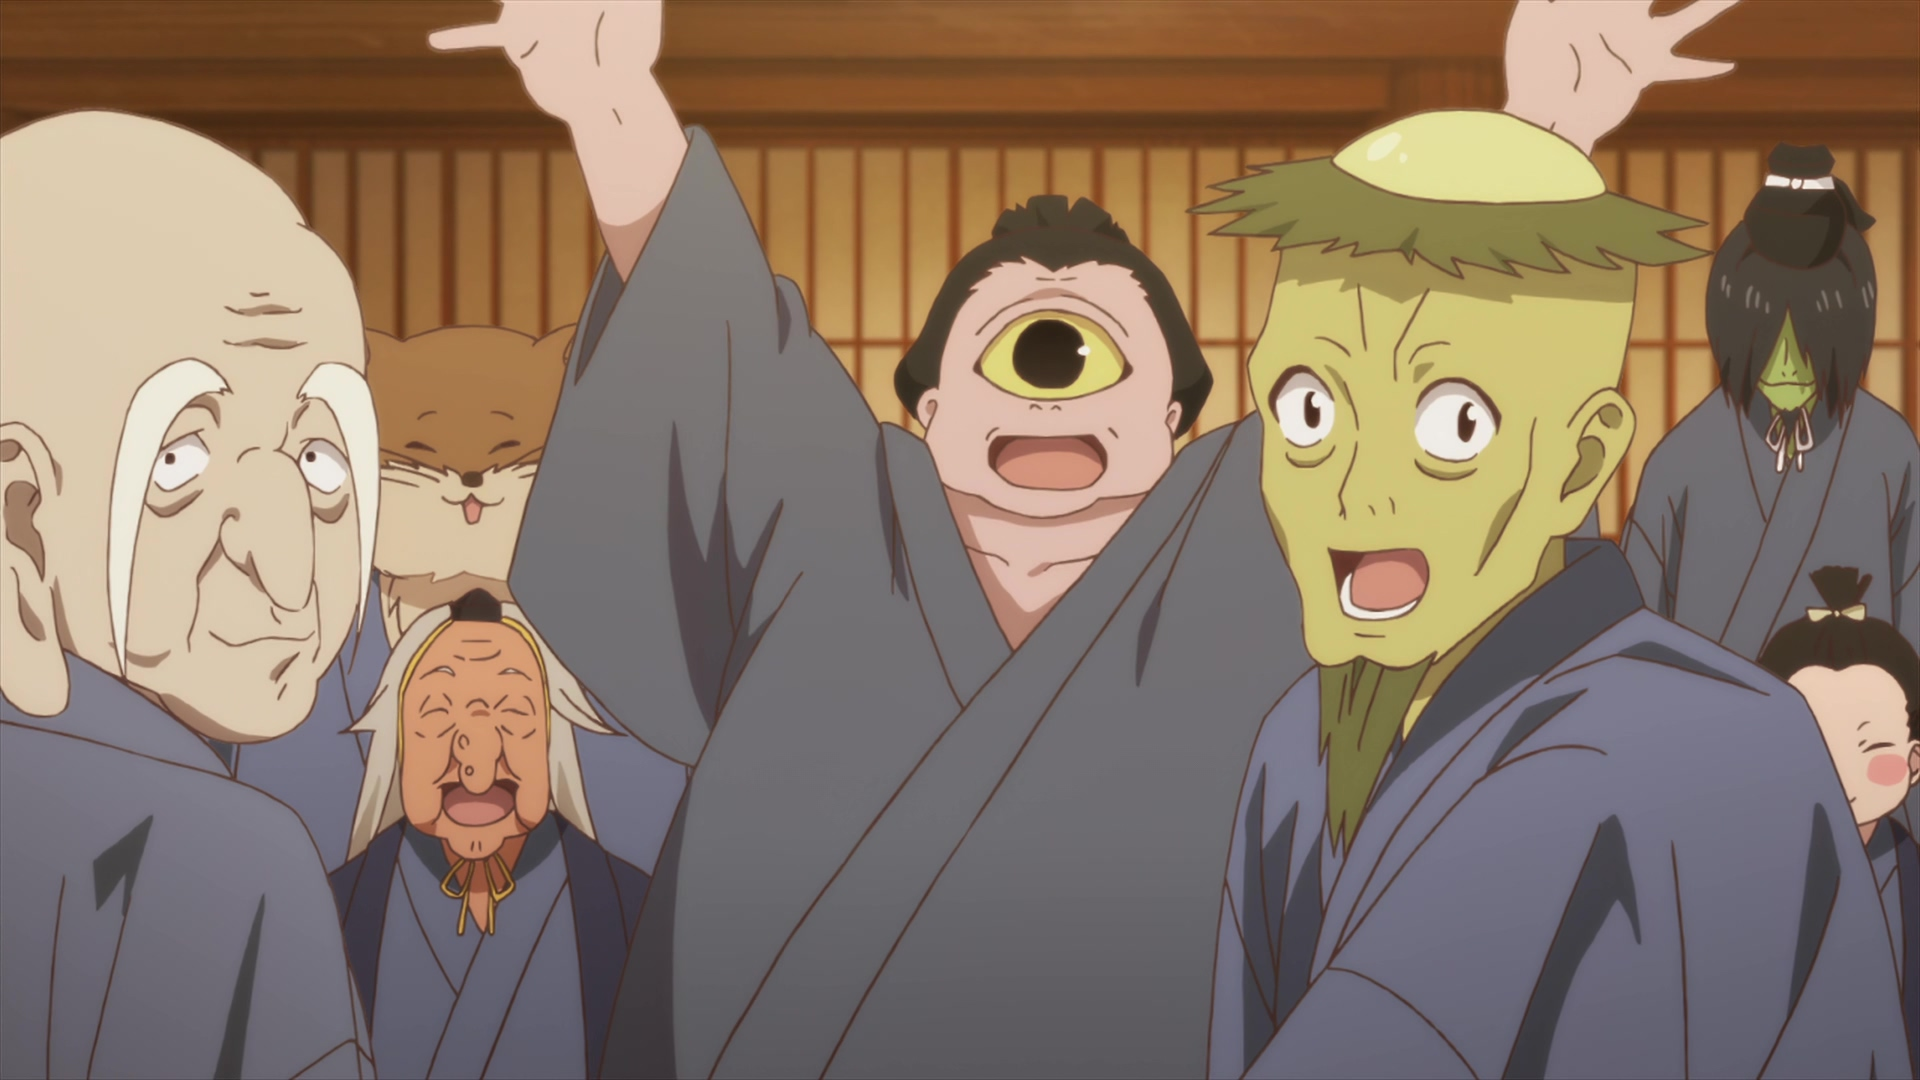其他: (429, 1, 1742, 1080), (1185, 104, 1908, 1080), (1, 108, 381, 1080), (236, 324, 684, 868), (324, 589, 651, 1080), (1621, 145, 1920, 665), (1759, 568, 1920, 1080)
